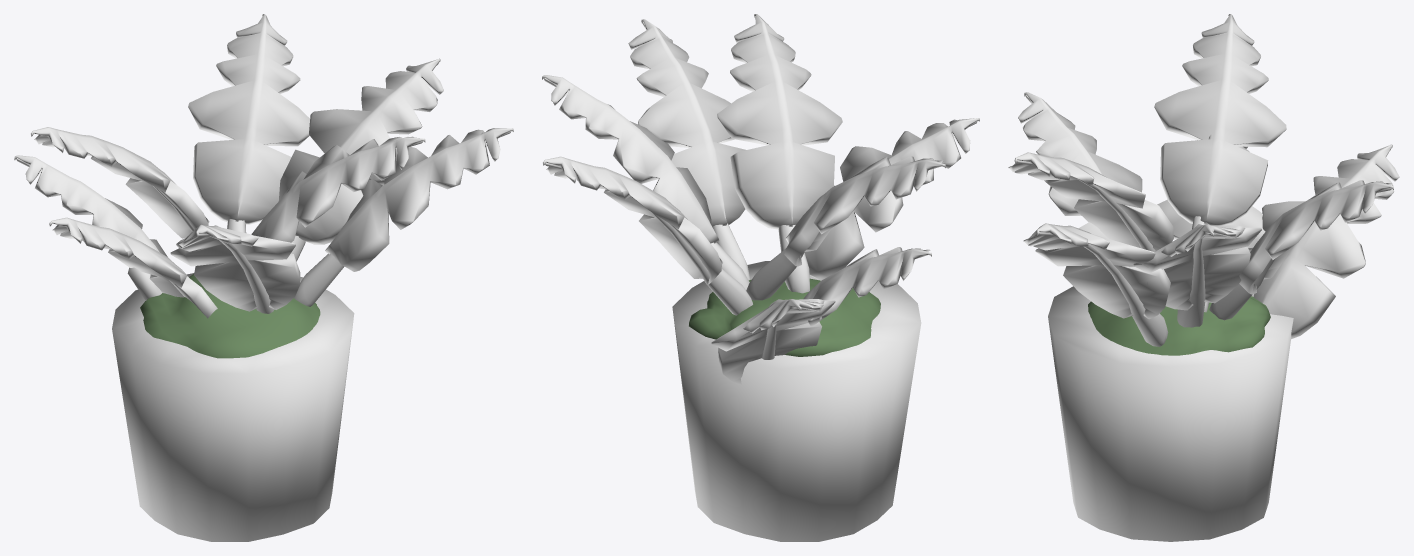
The model's file is plant.fbx.
3 renders of one model, left to right at view 1: azimuth 30°, elevation 25°; view 2: azimuth 150°, elevation 25°; view 3: azimuth 270°, elevation 25°, orthographic. The views are drawn at different scales.
Parts seen in each view (by area): view 1: Cube.854, Cube.846, Cube.841, Cube.842, bush.016, Cube.849, Cube.845, Cube.855, Cube.851, Cube.852, Cube.843, Cube.848; view 2: Cube.854, Cube.845, Cube.842, Cube.841, Cube.849, Cube.846, Cube.855, bush.016, Cube.851, Cube.852, Cube.847, Cube.853 (+3 smaller); view 3: Cube.854, Cube.855, Cube.851, Cube.842, Cube.845, Cube.841, bush.016, Cube.846, Cube.849, Cube.843, Cube.840, Cube.852 (+2 smaller).
Boxes of the visible parts, x1=… form: Cube.854: x1=112, y1=273, x2=354, y2=541; Cube.846: x1=188, y1=14, x2=309, y2=224; Cube.841: x1=279, y1=58, x2=443, y2=244; Cube.842: x1=325, y1=128, x2=513, y2=271; bush.016: x1=140, y1=274, x2=320, y2=358; Cube.849: x1=170, y1=224, x2=300, y2=311; Cube.845: x1=251, y1=136, x2=425, y2=242; Cube.855: x1=31, y1=127, x2=209, y2=238; Cube.851: x1=14, y1=155, x2=167, y2=300; Cube.852: x1=49, y1=217, x2=217, y2=318; Cube.843: x1=294, y1=131, x2=511, y2=306; Cube.848: x1=198, y1=233, x2=274, y2=313; Cube.854: x1=672, y1=261, x2=921, y2=541; Cube.845: x1=717, y1=14, x2=842, y2=229; Cube.842: x1=628, y1=19, x2=745, y2=226; Cube.841: x1=542, y1=75, x2=719, y2=243; Cube.849: x1=804, y1=118, x2=979, y2=280; Cube.846: x1=543, y1=156, x2=723, y2=284; Cube.855: x1=784, y1=156, x2=945, y2=266; bush.016: x1=689, y1=278, x2=880, y2=356; Cube.851: x1=711, y1=299, x2=835, y2=384; Cube.852: x1=799, y1=247, x2=931, y2=339; Cube.847: x1=545, y1=162, x2=752, y2=315; Cube.853: x1=746, y1=248, x2=804, y2=300; Cube.854: x1=1048, y1=286, x2=1293, y2=541; Cube.855: x1=1154, y1=14, x2=1286, y2=225; Cube.851: x1=1249, y1=144, x2=1399, y2=339; Cube.842: x1=1023, y1=223, x2=1170, y2=319; Cube.845: x1=1008, y1=152, x2=1173, y2=251; Cube.841: x1=1133, y1=224, x2=1261, y2=310; bush.016: x1=1088, y1=296, x2=1270, y2=355; Cube.846: x1=1239, y1=180, x2=1393, y2=294; Cube.849: x1=1018, y1=92, x2=1142, y2=238; Cube.843: x1=1038, y1=232, x2=1168, y2=346; Cube.840: x1=1177, y1=234, x2=1212, y2=327; Cube.852: x1=1157, y1=140, x2=1265, y2=296.
Bounding box in the file's own units: 90.66 × 74.46 × 84.8.
